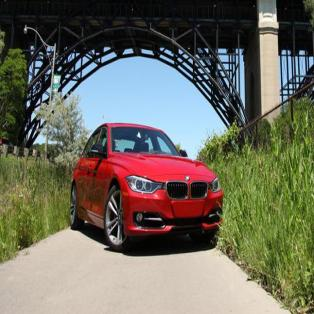Auto: (67, 117, 230, 263)
